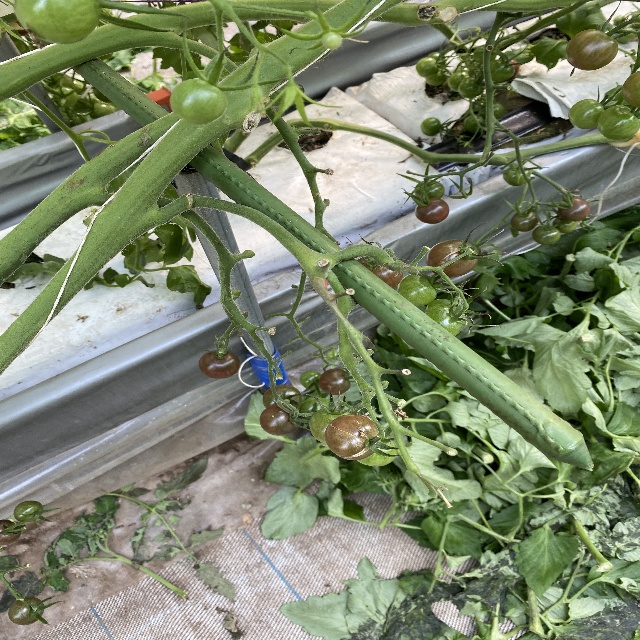l_fully_ripened: (197, 349, 241, 380), (414, 198, 450, 224), (559, 197, 591, 221), (0, 520, 22, 546)
l_green: (13, 0, 101, 45), (170, 79, 229, 124), (310, 406, 352, 443), (596, 105, 639, 140), (397, 273, 437, 306), (356, 437, 399, 467), (425, 304, 465, 336), (568, 99, 604, 130), (300, 396, 332, 423), (483, 59, 515, 81), (414, 179, 444, 202), (12, 501, 42, 524), (532, 224, 562, 245), (501, 166, 532, 185), (51, 88, 77, 107), (88, 102, 115, 120), (416, 57, 438, 78), (552, 216, 579, 233), (300, 370, 321, 390), (321, 31, 344, 48), (420, 117, 441, 135)
l_half_ripened: (324, 414, 381, 461), (564, 29, 619, 71), (425, 239, 479, 277), (357, 253, 404, 289), (259, 403, 301, 436), (7, 596, 45, 626), (262, 385, 302, 407), (319, 369, 350, 395), (622, 70, 640, 107), (511, 210, 538, 232)
